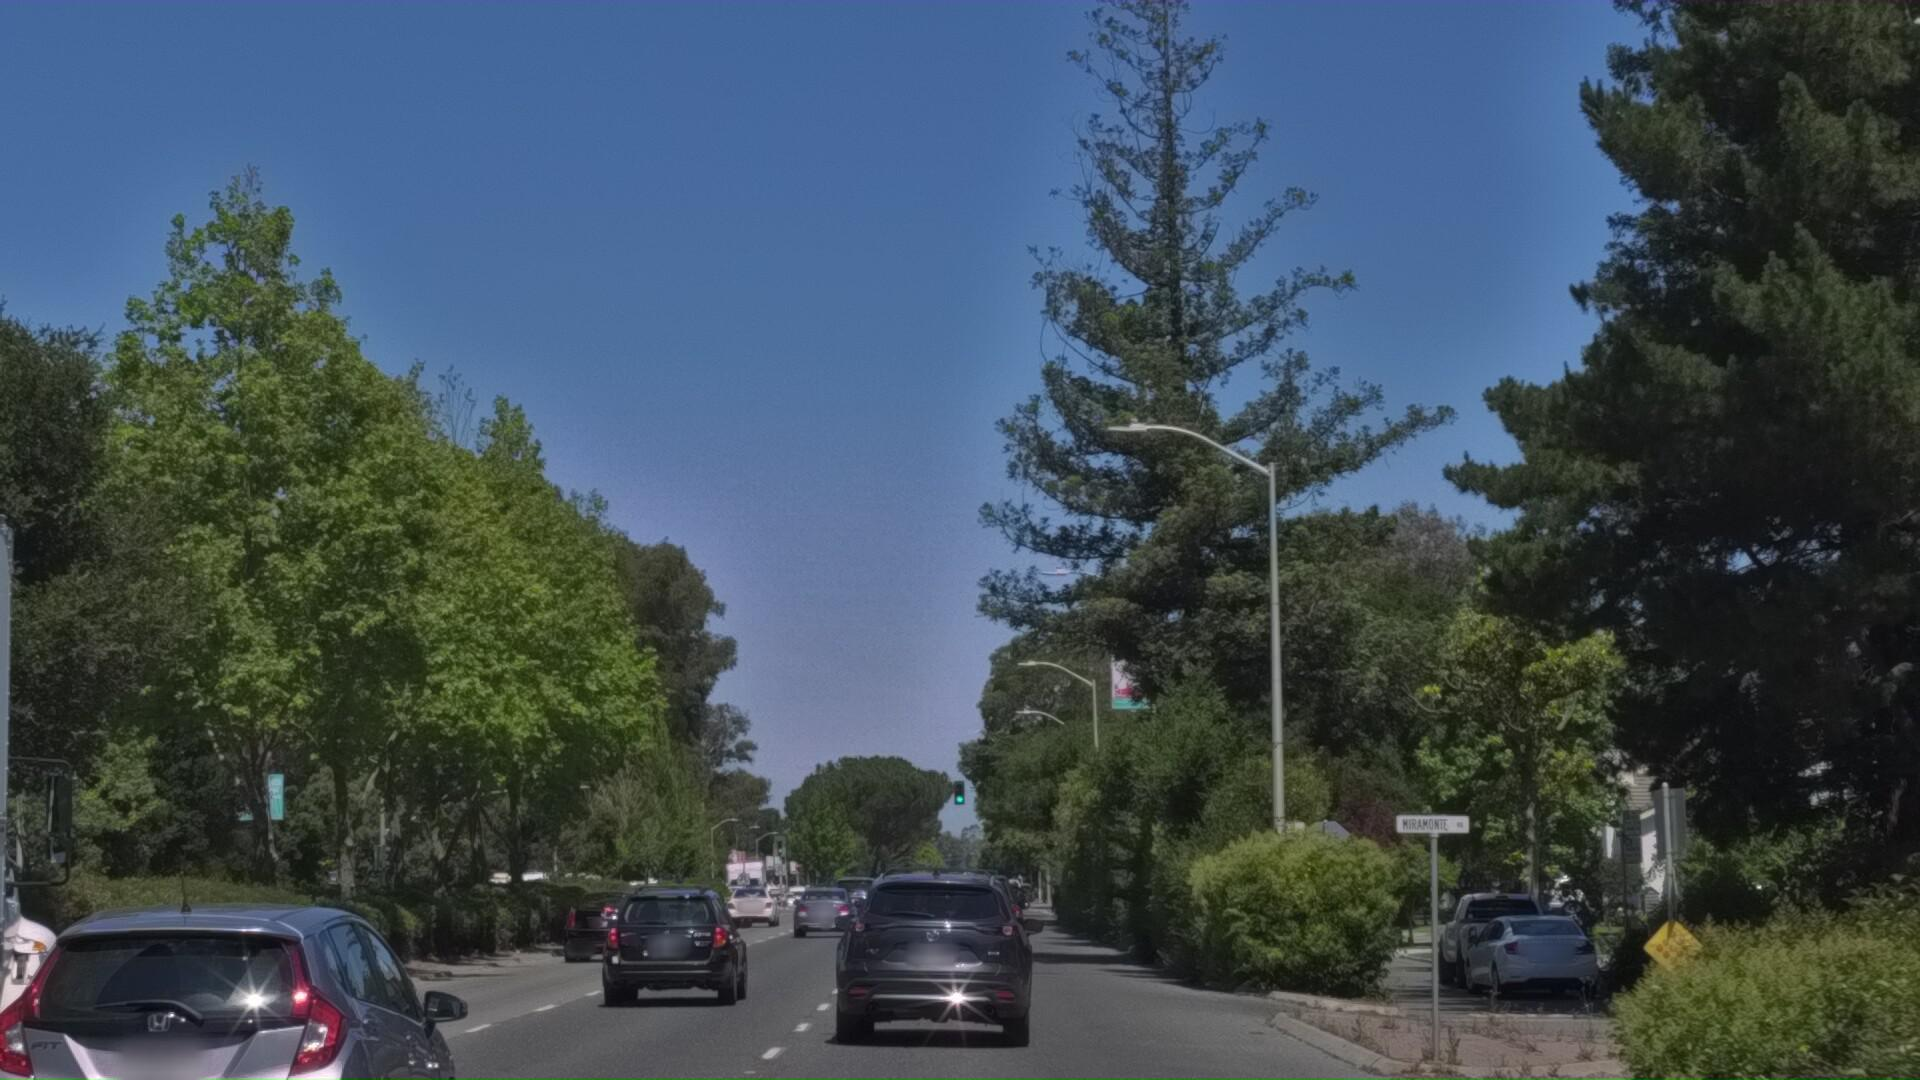car: (0, 964, 491, 1080), (815, 942, 1052, 1080), (572, 957, 760, 1080), (1427, 981, 1578, 1080), (891, 964, 1023, 1077), (1457, 997, 1609, 1080), (550, 981, 671, 1064)
truck: (0, 368, 152, 1080)
